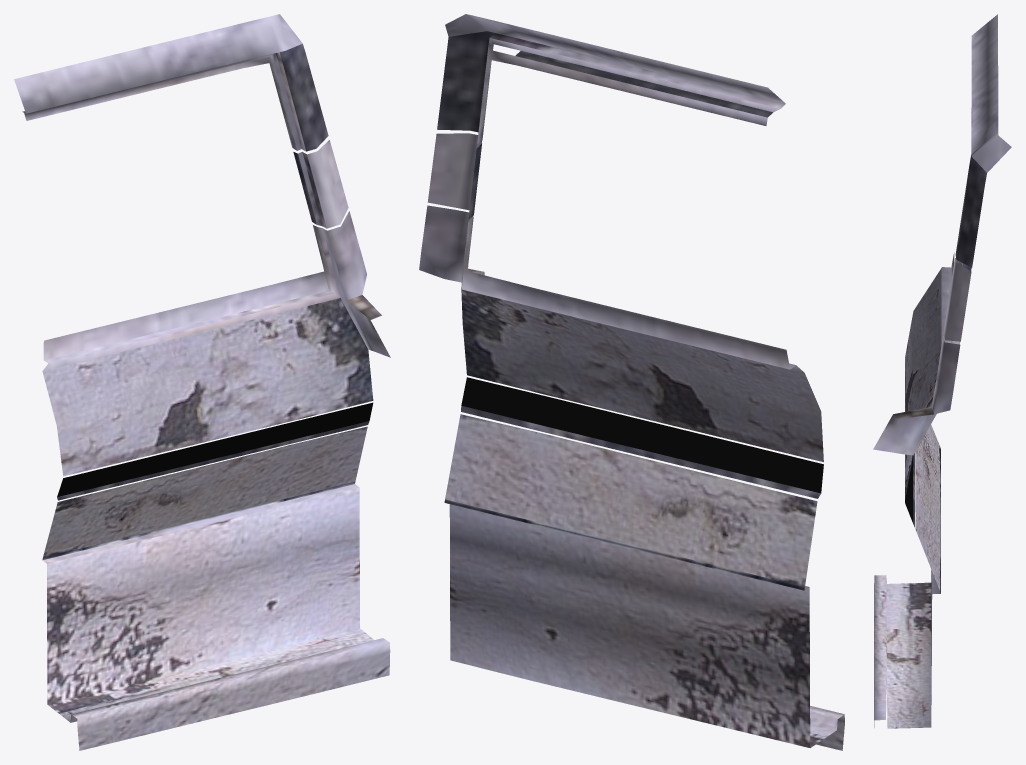
File: camionnete_porte2.obj
3 renders of one model, left to right at view 1: azimuth 30°, elevation 25°; view 2: azimuth 150°, elevation 25°; view 3: azimuth 270°, elevation 25°, orthographic. The views are drawn at different scales.
Parts seen in each view (by area): view 1: Cube.003; view 2: Cube.003; view 3: Cube.003.
Part boxes in pixels (x1,y1,x2,y2): Cube.003: (14, 14, 390, 750); Cube.003: (419, 14, 844, 750); Cube.003: (873, 14, 1011, 728).
Bounding box in the file's own units: 7.36 × 13.31 × 2.82.
3 materials, 2 textured.
